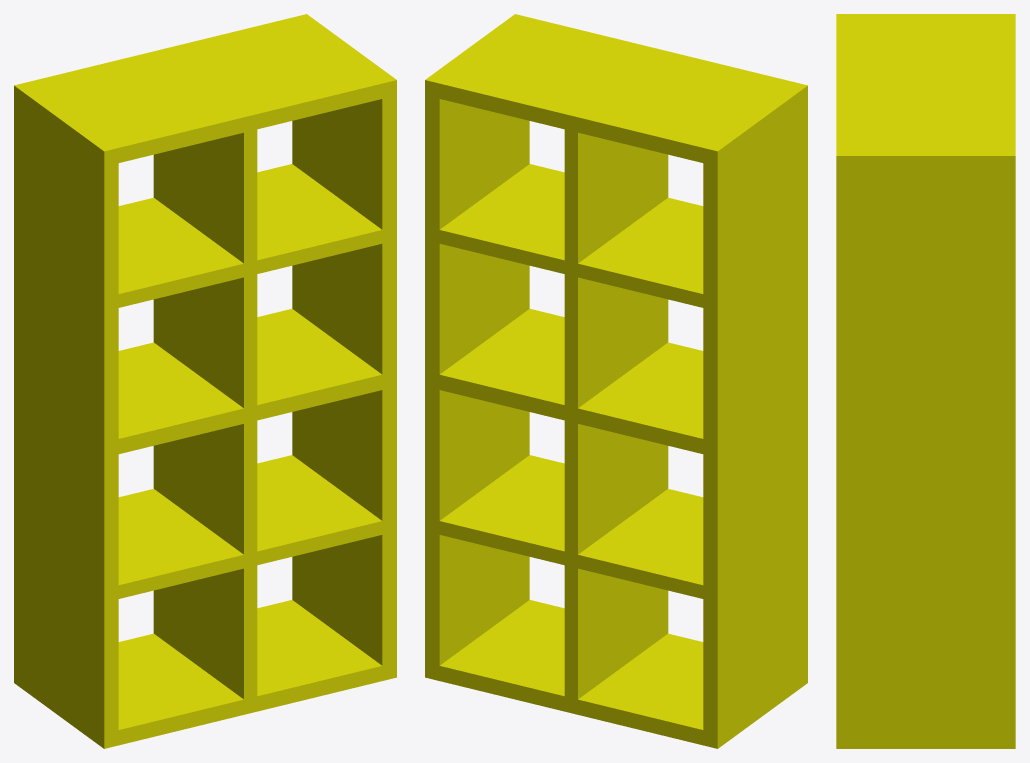
The model's file is MeubleRangementSalon2.fbx.
The picture shows the model from 3 angles, left to right: view 1: azimuth 30°, elevation 25°; view 2: azimuth 150°, elevation 25°; view 3: azimuth 270°, elevation 25°; orthographic projection.
Parts seen in each view (by area): view 1: Cube.001; view 2: Cube.001; view 3: Cube.001.
Boxes of the visible parts, <box> form: Cube.001: <box>14,14,396,748</box>; Cube.001: <box>425,14,807,748</box>; Cube.001: <box>836,14,1015,748</box>.
Bounding box in the file's own units: 300 × 585 × 160.
